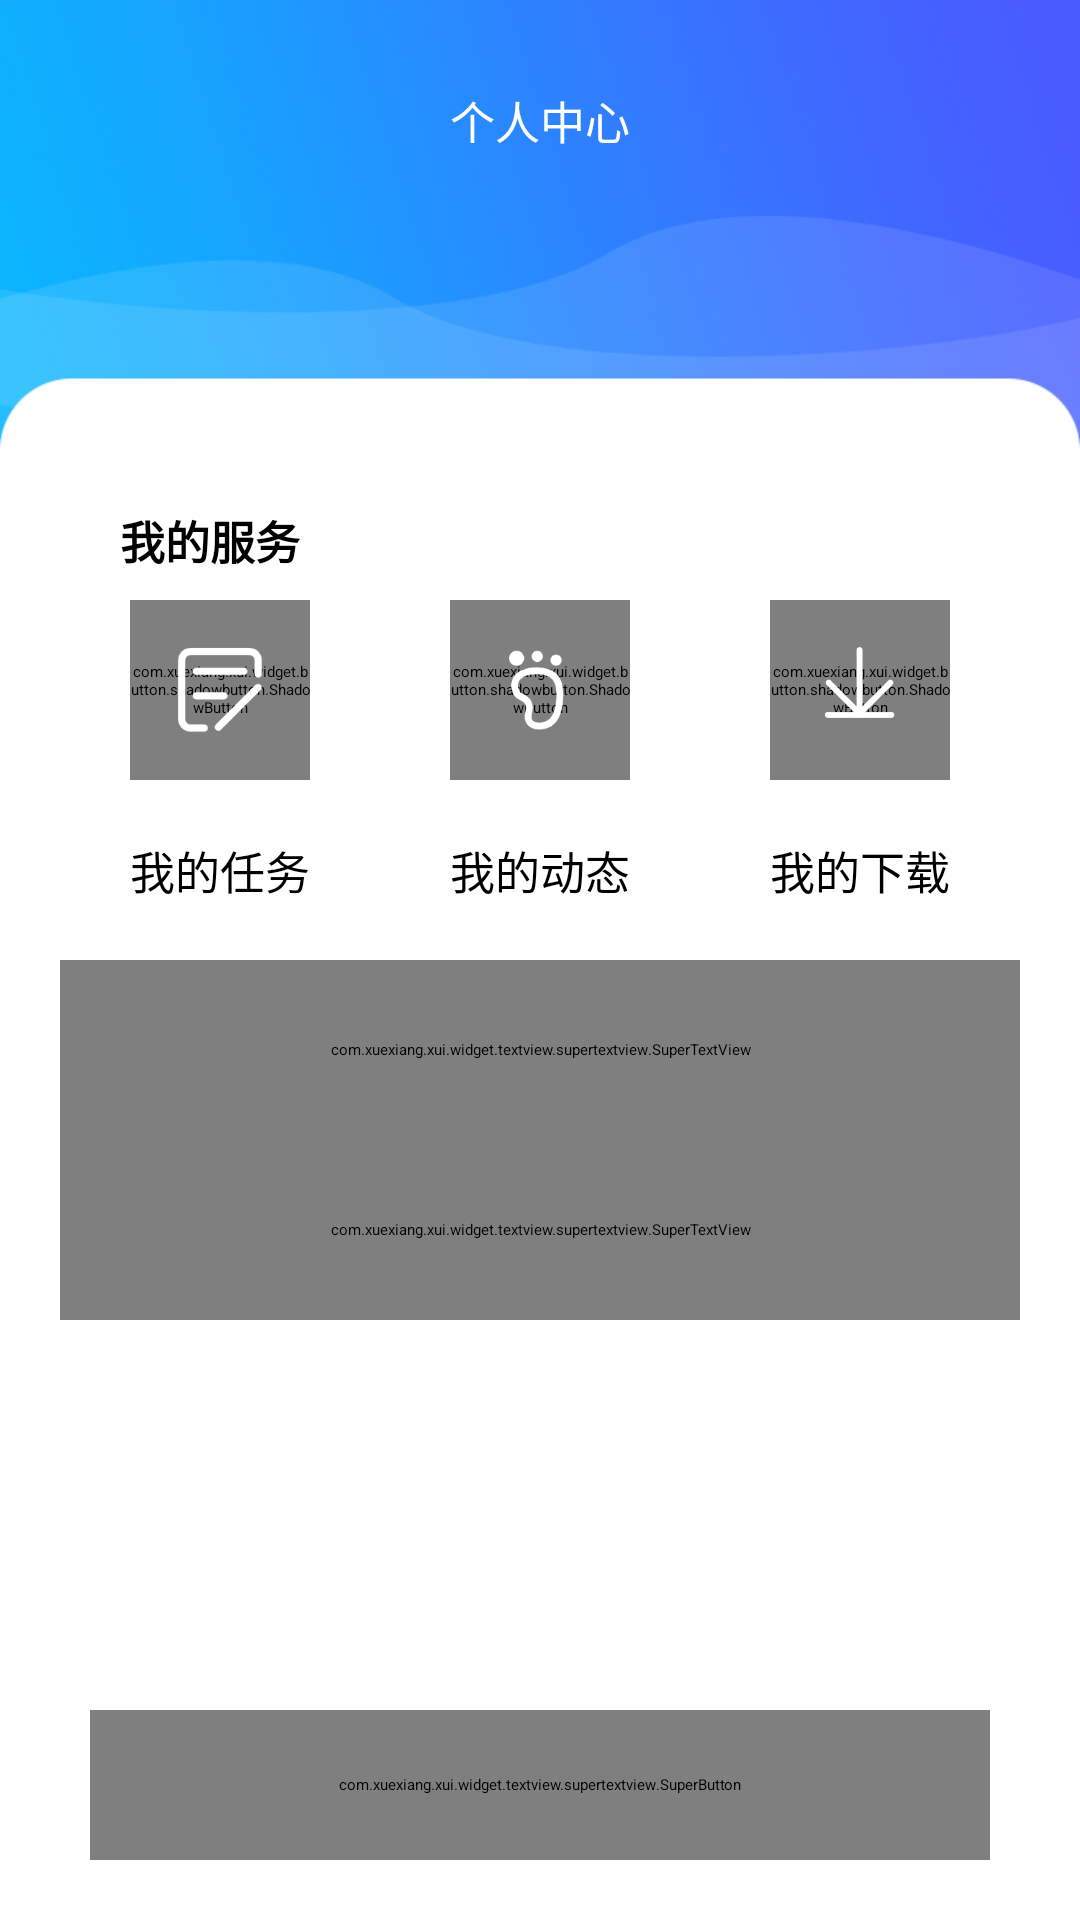

Screen size 1080 x 1920. Icon name, then its center in pixels as [x,y]:
download: [859,682]
task: [220,690]
